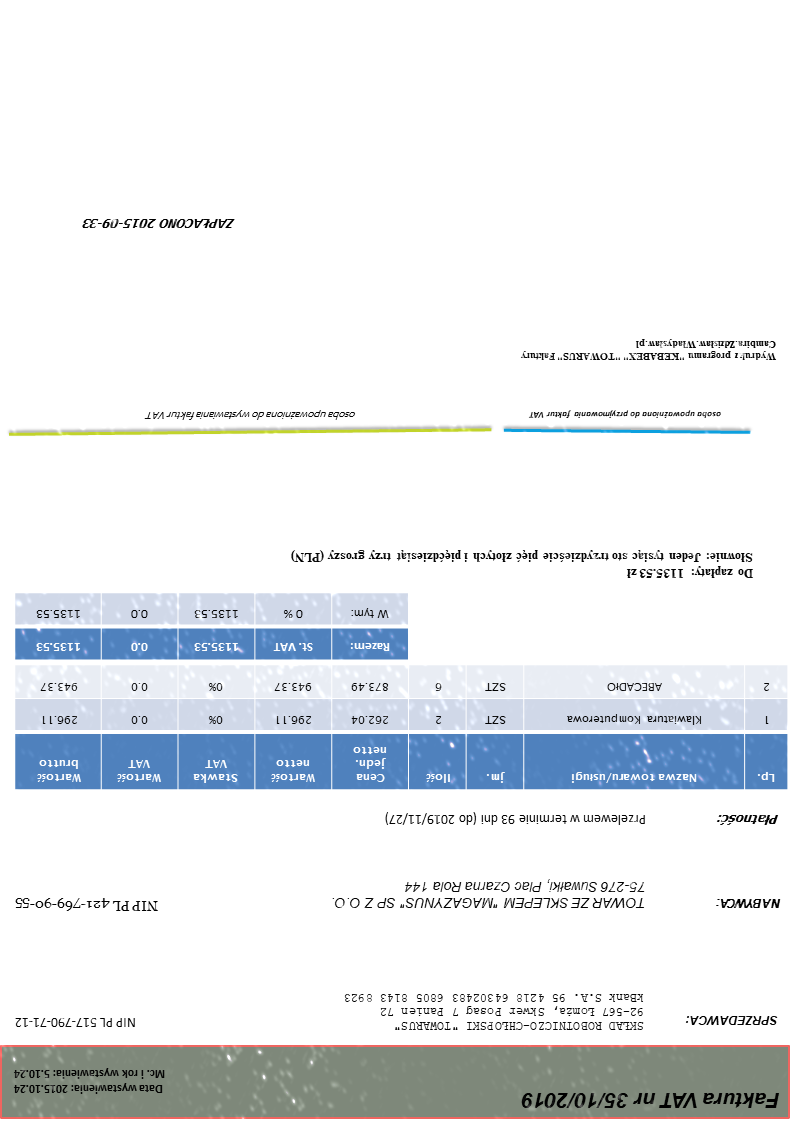Table: (14, 664, 789, 791), (13, 592, 410, 662)
TextBox: (287, 547, 757, 583), (343, 991, 647, 1034), (326, 878, 648, 912), (517, 337, 780, 364), (519, 1089, 782, 1112), (11, 1067, 168, 1096), (385, 812, 648, 828), (141, 409, 358, 423), (13, 895, 160, 915), (81, 216, 237, 233), (527, 409, 724, 421), (13, 1014, 139, 1032), (684, 1012, 780, 1029), (716, 895, 783, 912), (715, 812, 780, 828)
